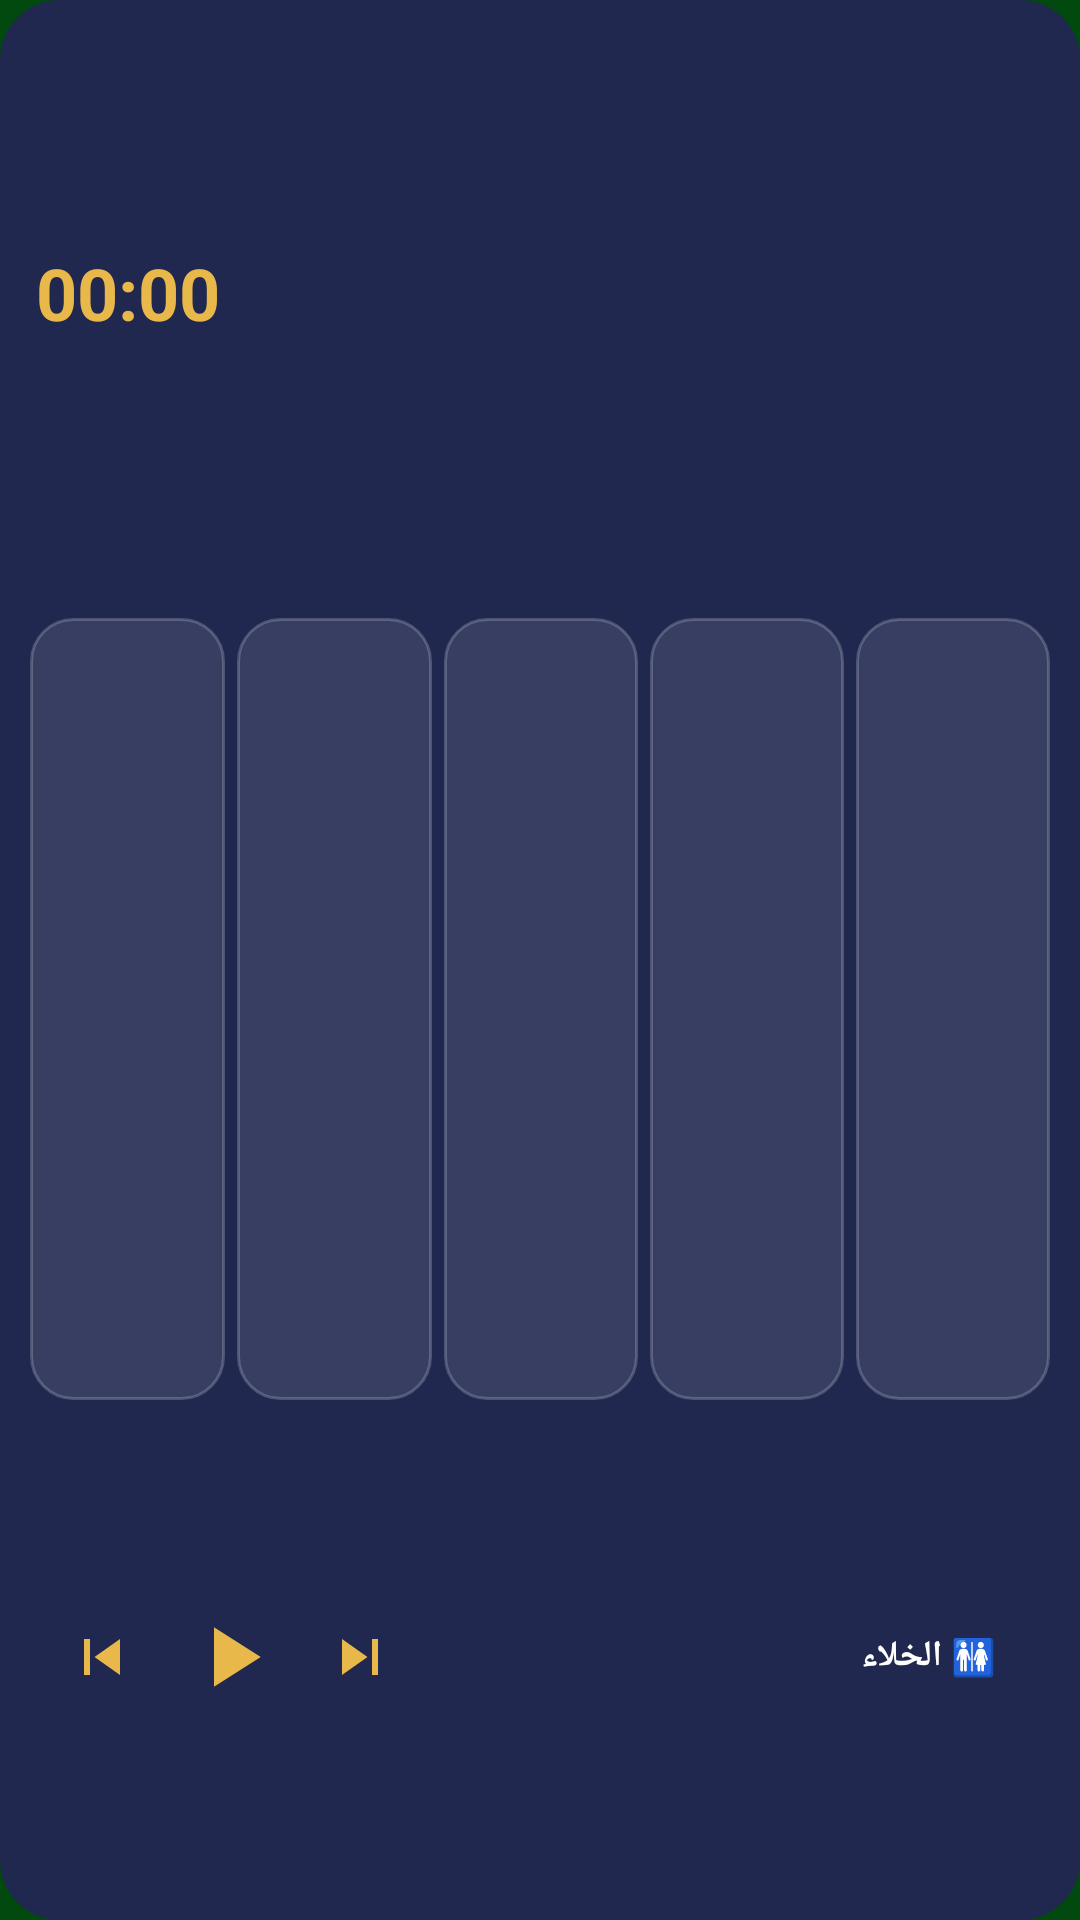

Screen size 1080w x 1920h. Icon name, then its center in pixels as [x,y]:
next: [360,1657]
play: [237,1657]
prev: [102,1657]
